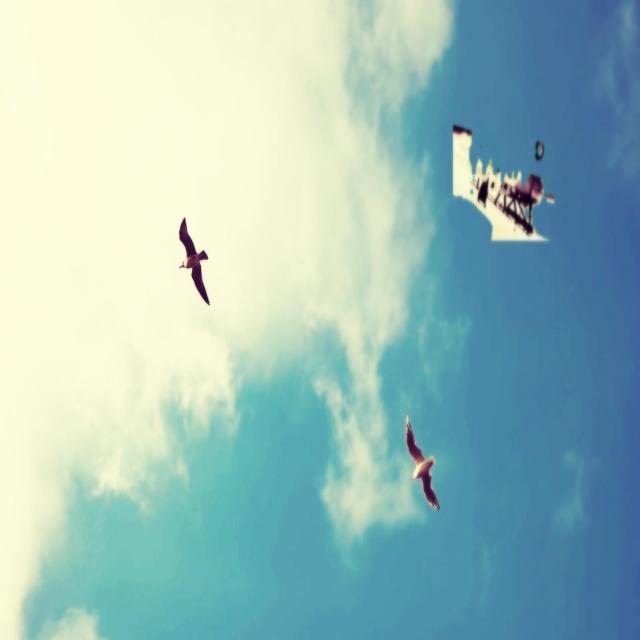airplane: (452, 123, 555, 243)
